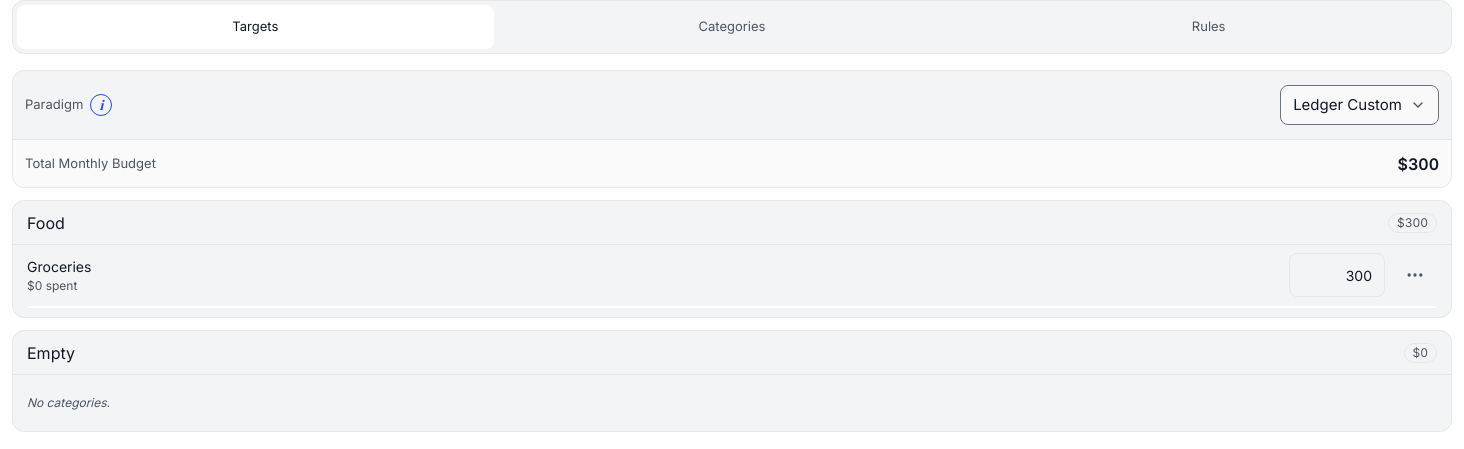
Test: BudgetSetupMobile › only offers group removal for an empty group
Click the tab "Categories" at (732, 27), box [494,5,970,49]
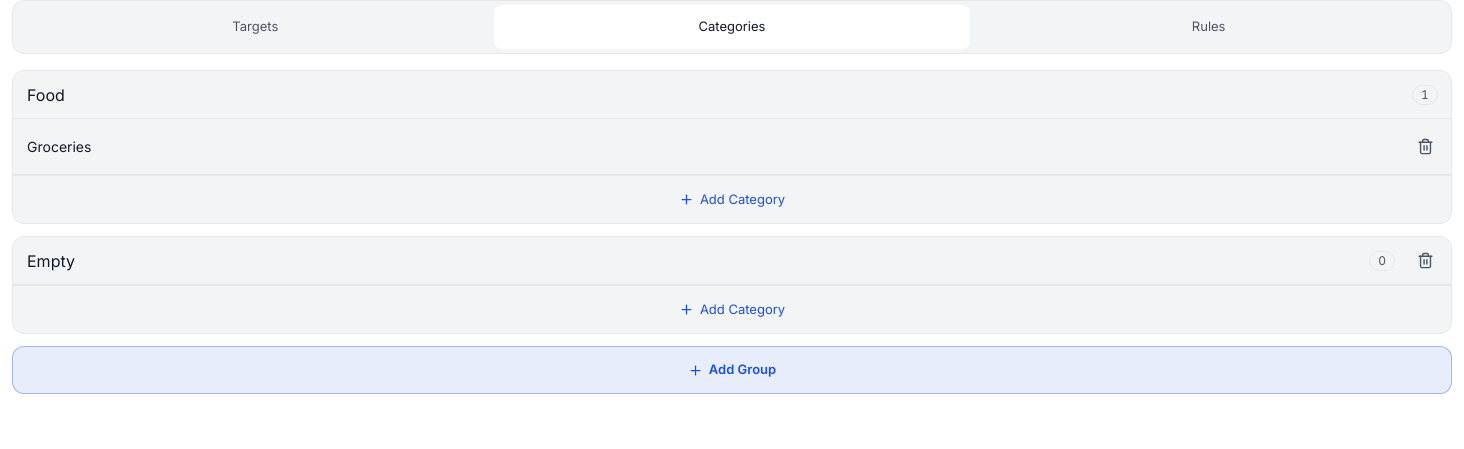
Expected: the button named "Remove group Empty" is shown, [1403,238,1447,282]
